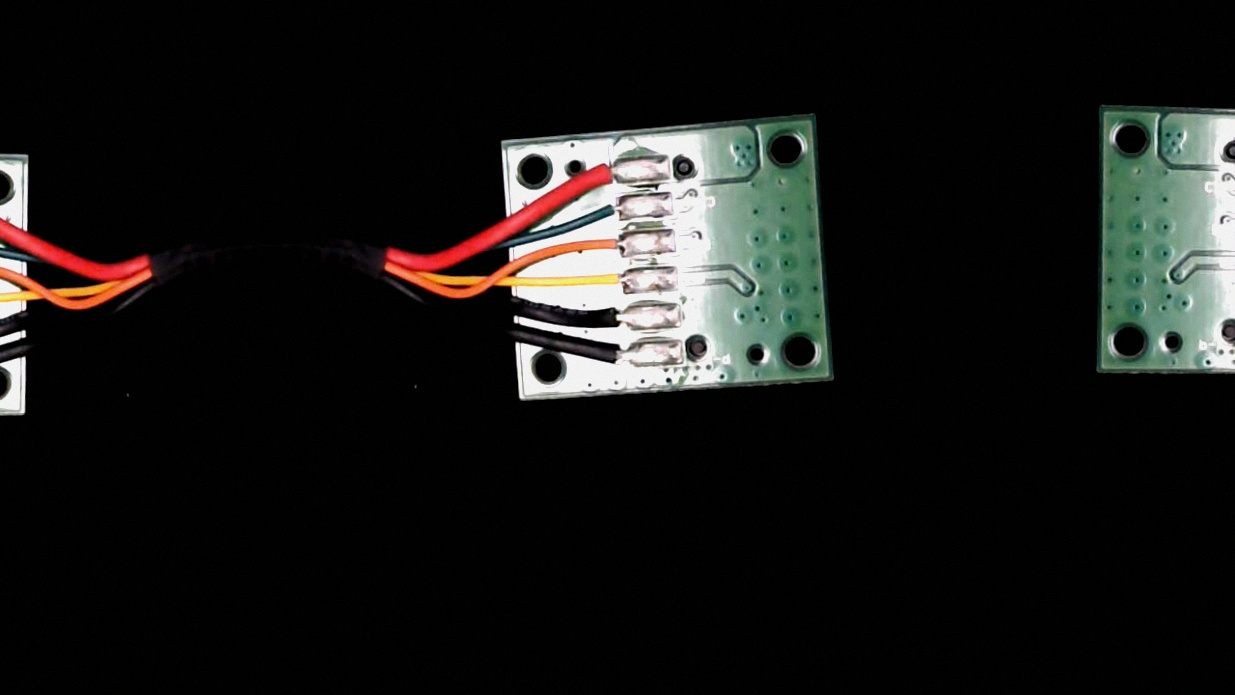Black: (573, 300, 644, 335)
Black1: (584, 341, 649, 375)
Green: (581, 192, 639, 223)
Orange: (570, 230, 637, 261)
Red: (566, 155, 634, 190)
Yellow: (569, 266, 641, 301)
